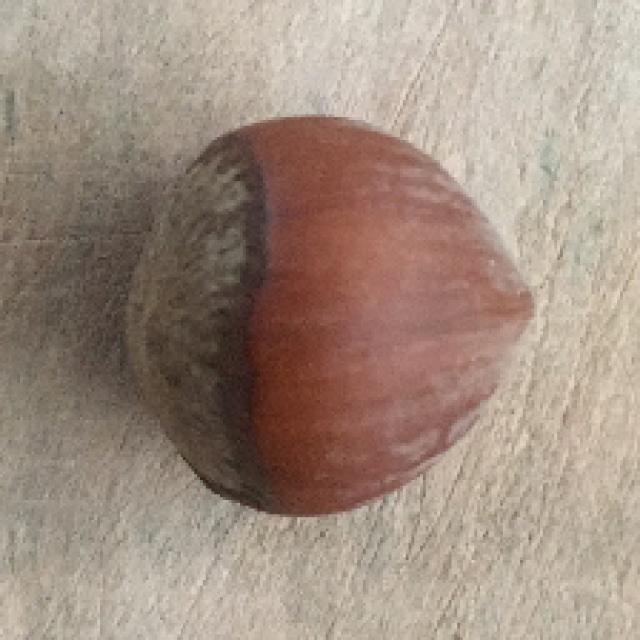qualityHazelnut: (124, 110, 536, 518)
